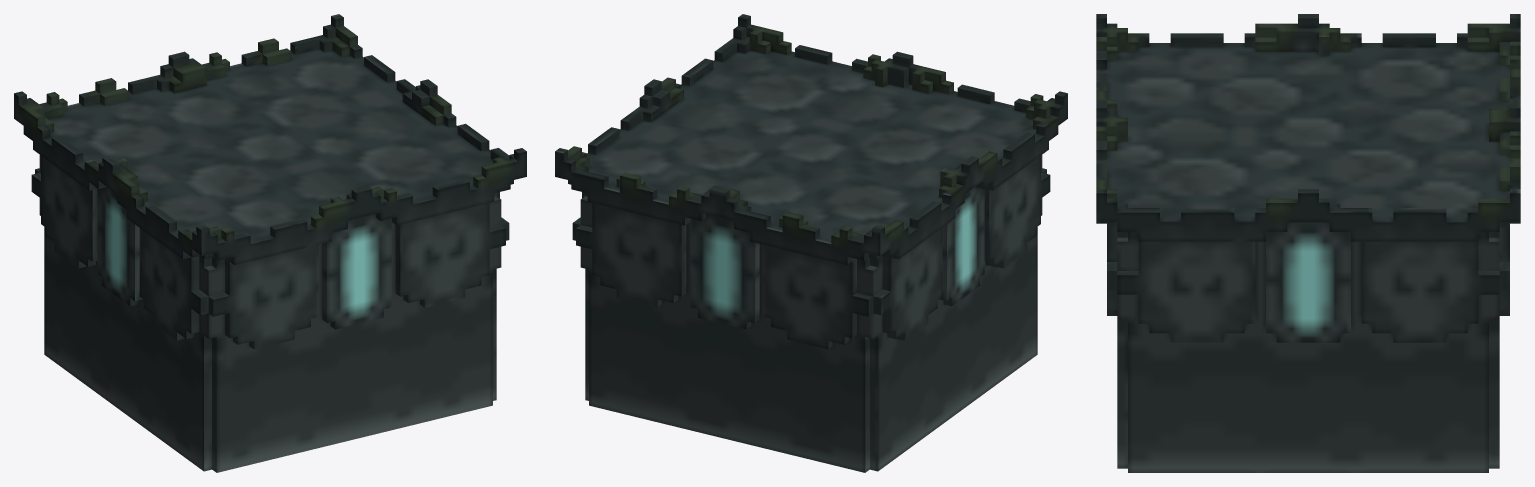
Rendered from big_isl_extra1.fbx.
3 renders of one model, left to right at view 1: azimuth 30°, elevation 25°; view 2: azimuth 150°, elevation 25°; view 3: azimuth 270°, elevation 25°, orthographic. The views are drawn at different scales.
Visible parts, largest first — view 1: big_isl_extra1.001; view 2: big_isl_extra1.001; view 3: big_isl_extra1.001.
Boxes of the visible parts, left/top/right/bottom form: big_isl_extra1.001: left=14, top=14, right=526, bottom=472; big_isl_extra1.001: left=555, top=14, right=1067, bottom=472; big_isl_extra1.001: left=1096, top=14, right=1520, bottom=472.
Size of the model in its own units: 4 by 3 by 4.
Materials: 1 (1 with a texture image).
